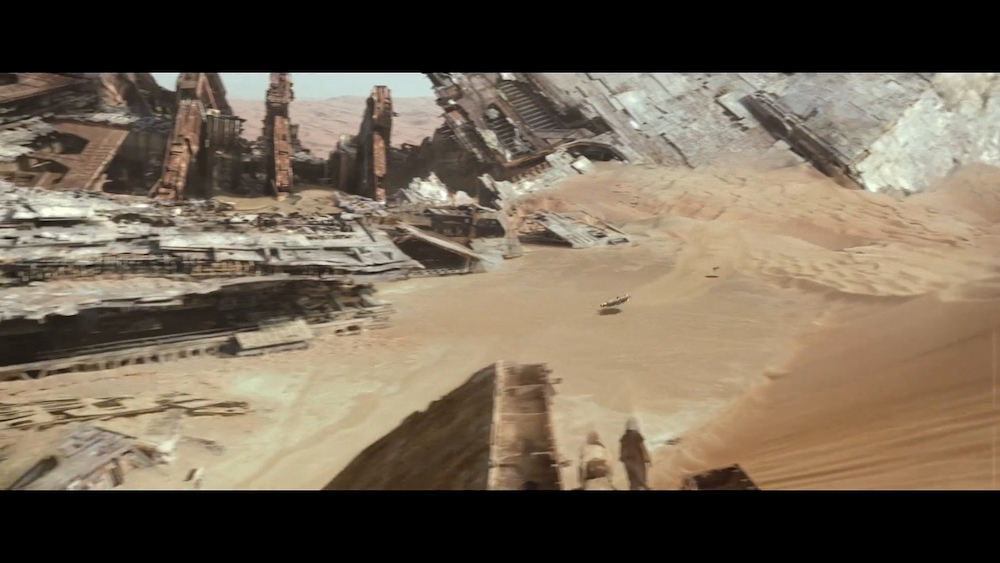Millennium Falcon: (601, 295, 630, 308)
Tie Fighter: (712, 267, 720, 272)
